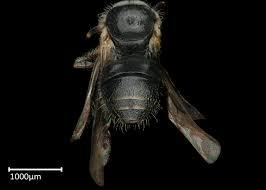Braunsapis: (63, 0, 223, 188)
